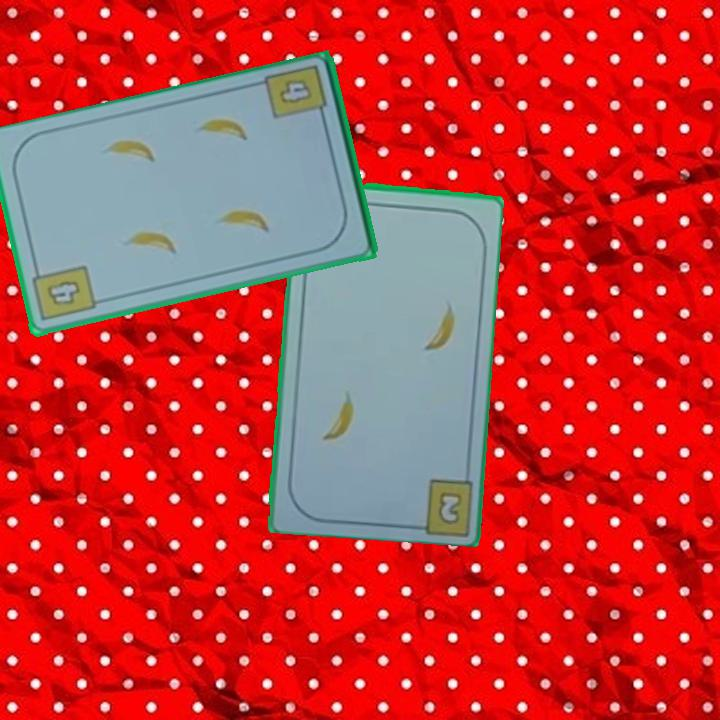2b: (434, 488, 465, 528)
4b: (262, 61, 330, 127), (29, 262, 99, 324)
